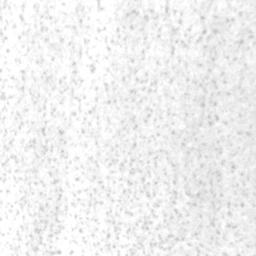Pitted surface: (150, 235, 165, 250), (126, 10, 139, 17), (142, 221, 152, 230)
